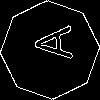A: (25, 25, 73, 61)
